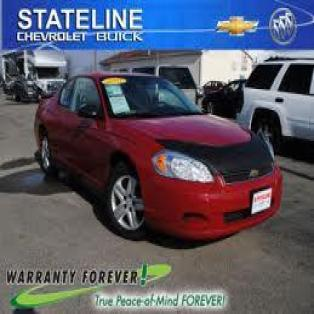Auto: (33, 68, 285, 244)
